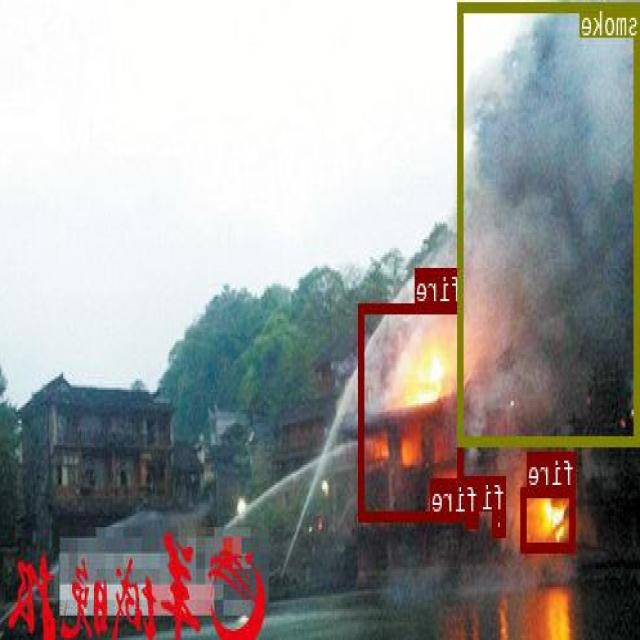fire: (360, 302, 464, 519), (522, 487, 576, 550), (494, 510, 507, 534), (467, 513, 480, 527)
smoke: (458, 1, 640, 444)
